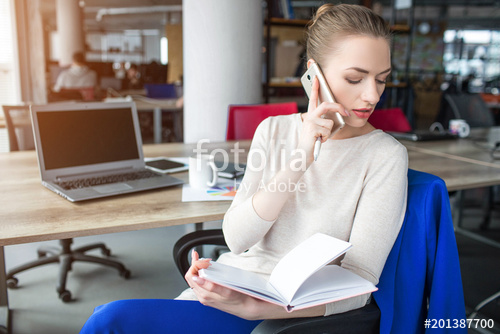phone: (301, 69, 348, 145)
talk: (288, 48, 394, 164)
